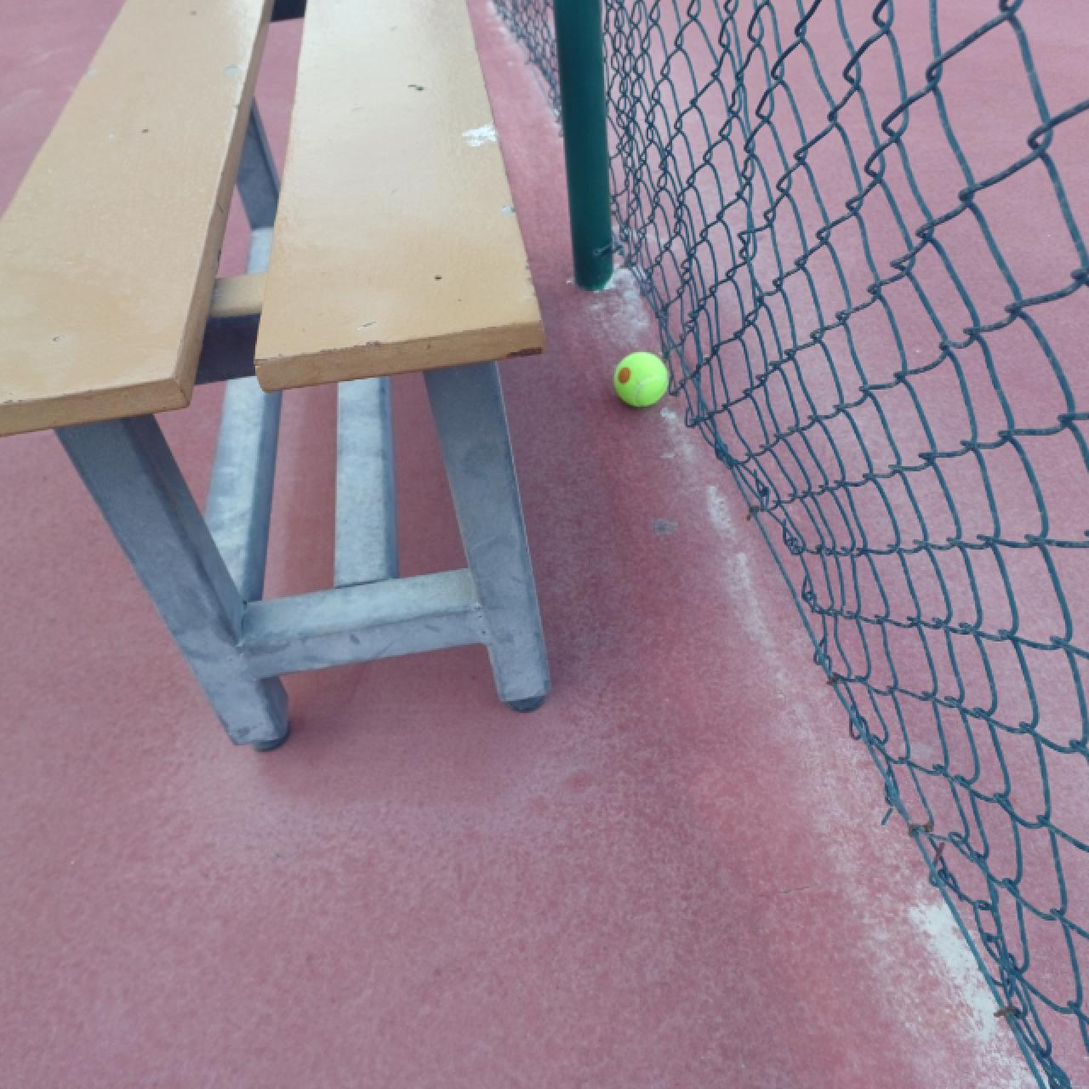tennis-ball: (611, 350, 671, 409)
